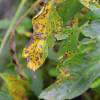Potato leaf early blight: (23, 0, 64, 72), (56, 40, 80, 75), (52, 23, 82, 41)
